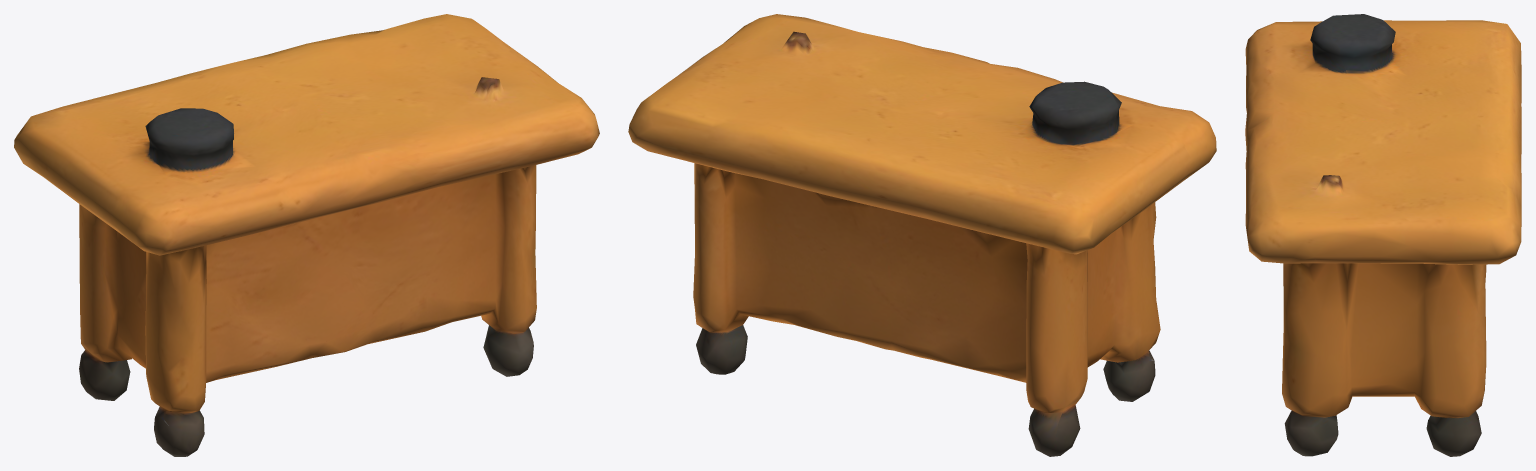
Rendered from bureau.glb.
The picture shows the model from 3 angles, left to right: view 1: azimuth 30°, elevation 25°; view 2: azimuth 150°, elevation 25°; view 3: azimuth 270°, elevation 25°; orthographic projection. The views are drawn at different scales.
Visible parts, largest first — view 1: bureau; view 2: bureau; view 3: bureau.
Boxes of the visible parts, x1,y1,x2,y2 form: bureau: [14, 14, 599, 456]; bureau: [628, 14, 1216, 456]; bureau: [1245, 14, 1521, 456].
Bounding box in the file's own units: 0.243 × 0.1547 × 0.1334.
Materials: 1 (1 with a texture image).
